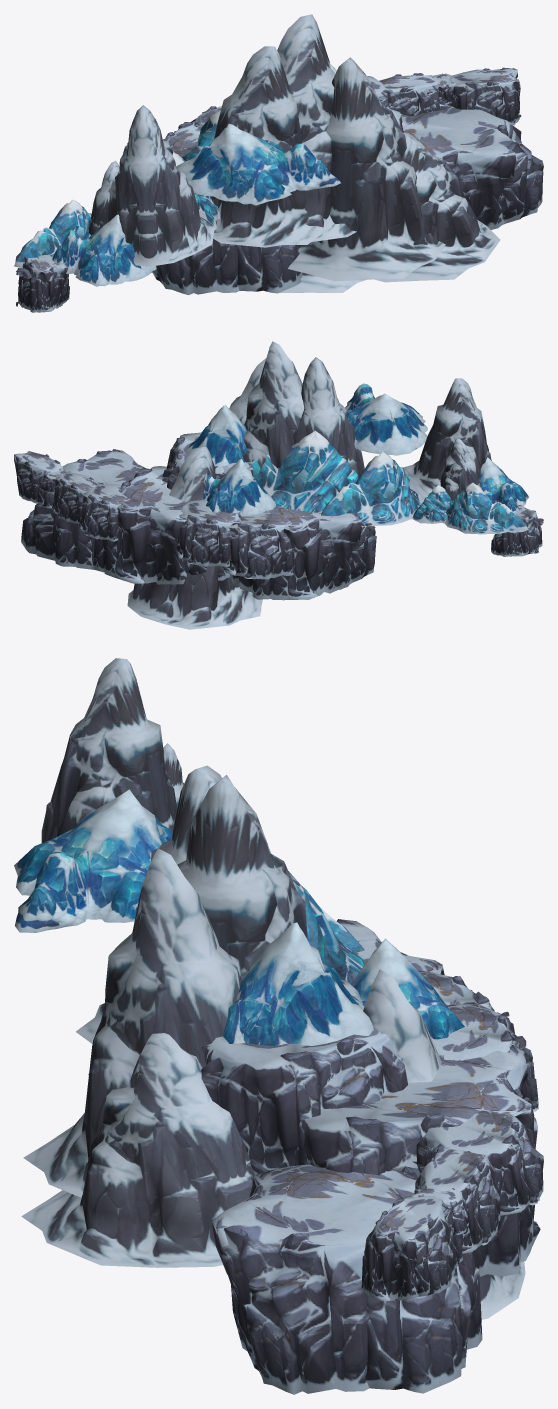
The model's file is yanshi18_1.fbx.
3 views of the same model, one above another, from view 1: azimuth 30°, elevation 25°; view 2: azimuth 150°, elevation 25°; view 3: azimuth 270°, elevation 25° (orthographic). The views are drawn at different scales.
Parts seen in each view (by area): view 1: yanshi18_1; view 2: yanshi18_1; view 3: yanshi18_1.
Part boxes in pixels (<box>): yanshi18_1: <box>14,14,543,312</box>; yanshi18_1: <box>14,341,543,629</box>; yanshi18_1: <box>14,658,543,1394</box>.
Size of the model in its own units: 7390 by 3566 by 3701.
